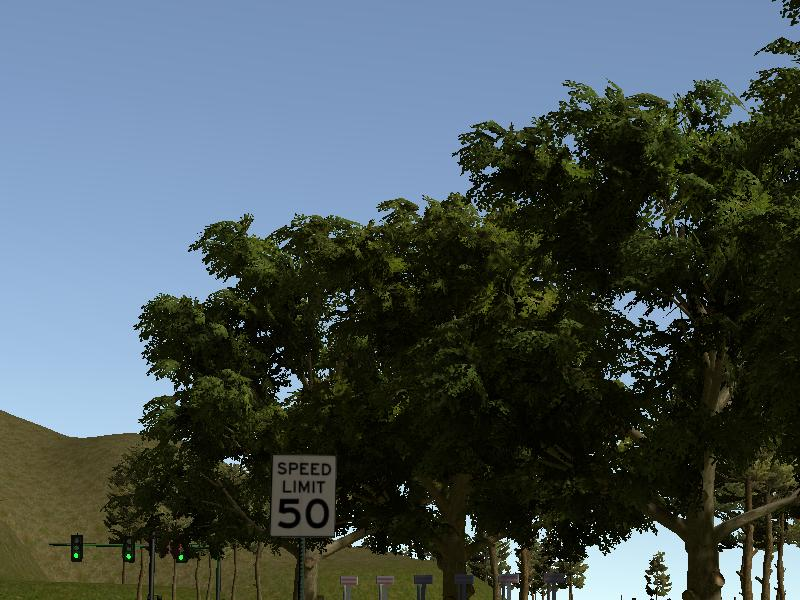Green: (70, 533, 83, 561), (123, 538, 134, 561)
